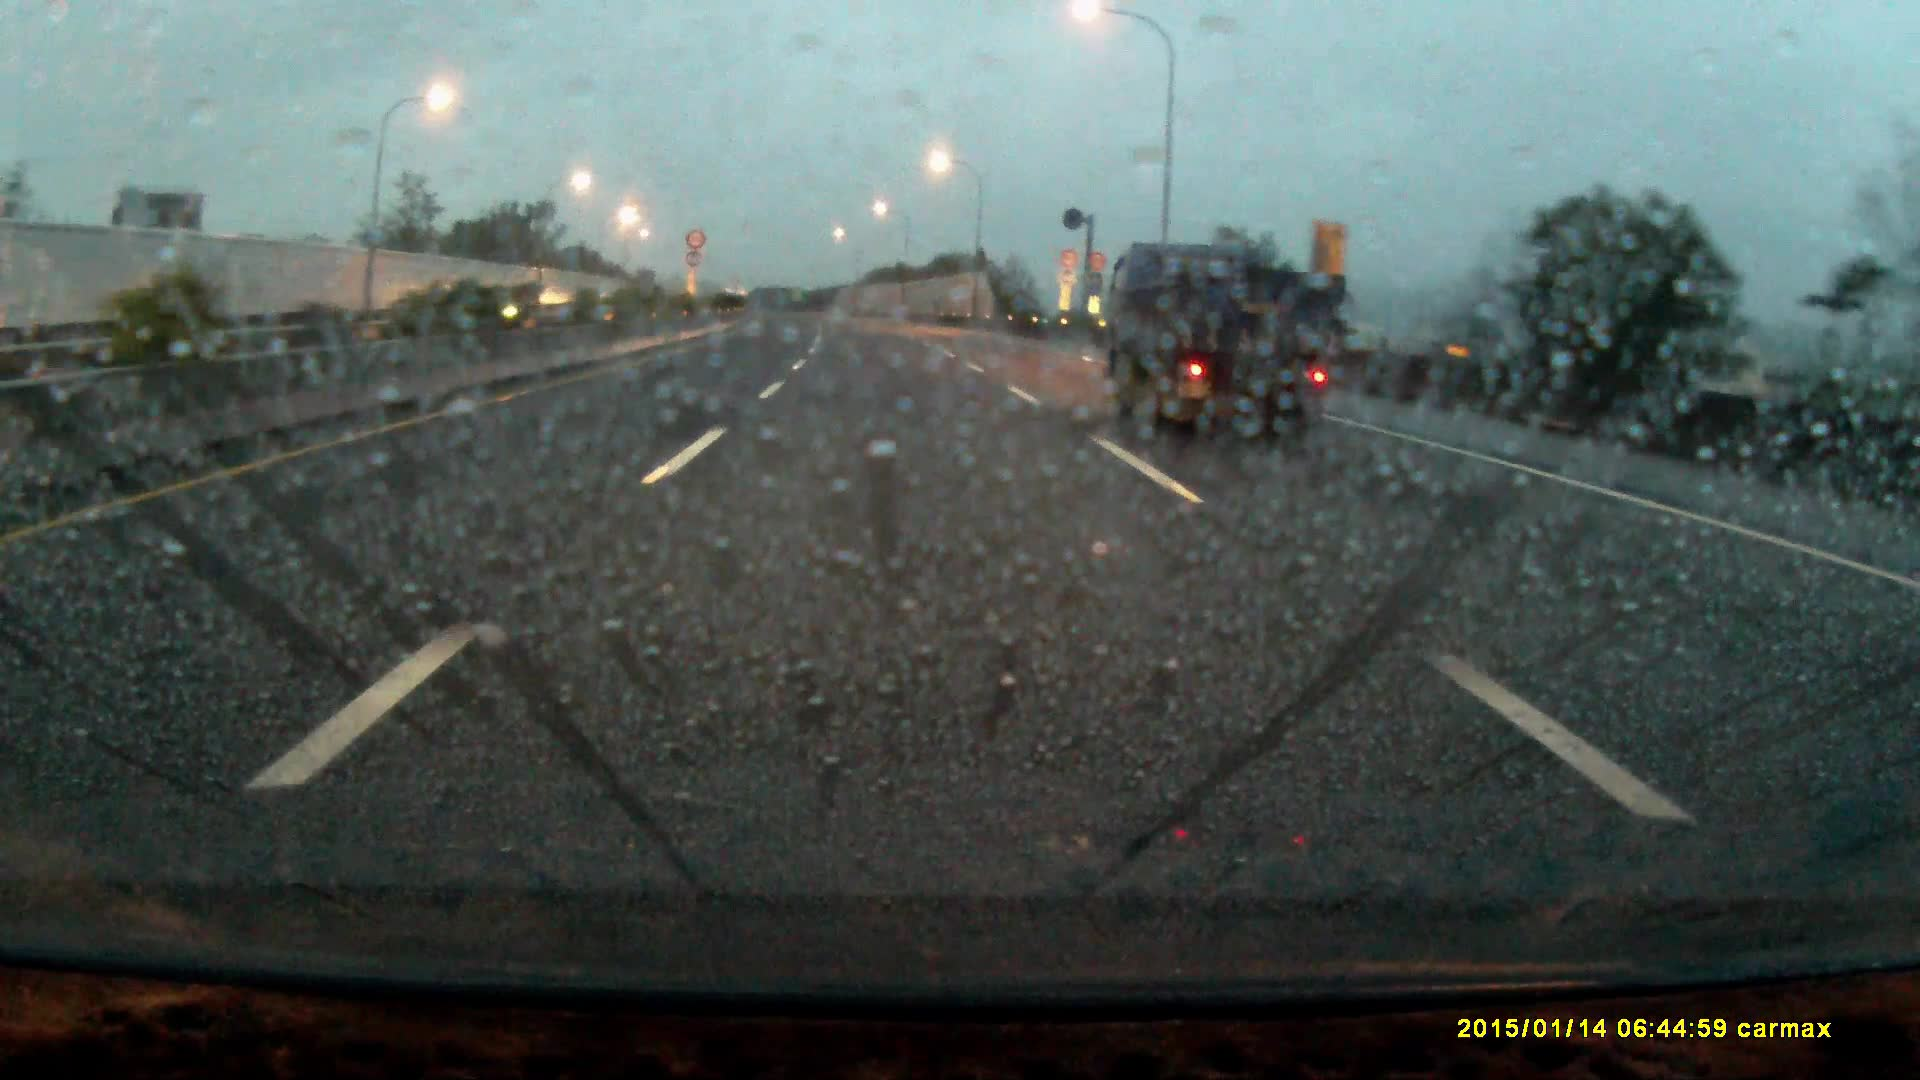vehicle: (1105, 237, 1349, 427)
